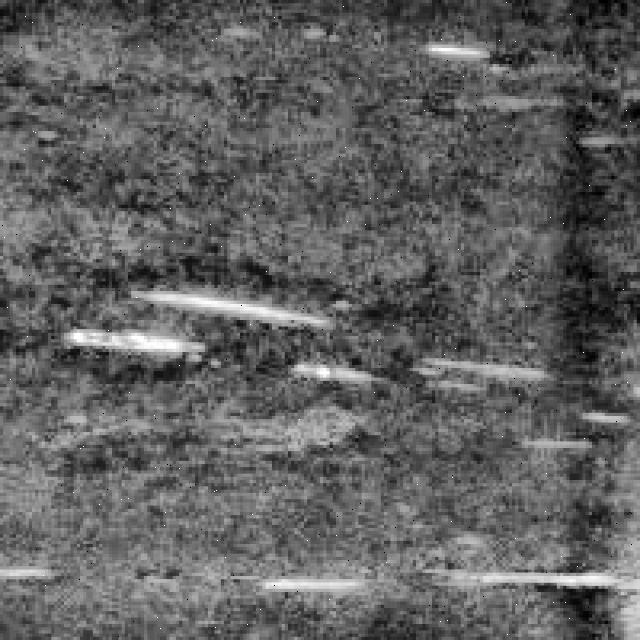Inclusion: (61, 275, 330, 362), (243, 550, 618, 602)
